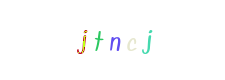C: (75, 0, 155, 80)
J: (42, 0, 122, 80), (84, 0, 164, 80)
N: (72, 0, 152, 80)
T: (43, 0, 123, 80)
